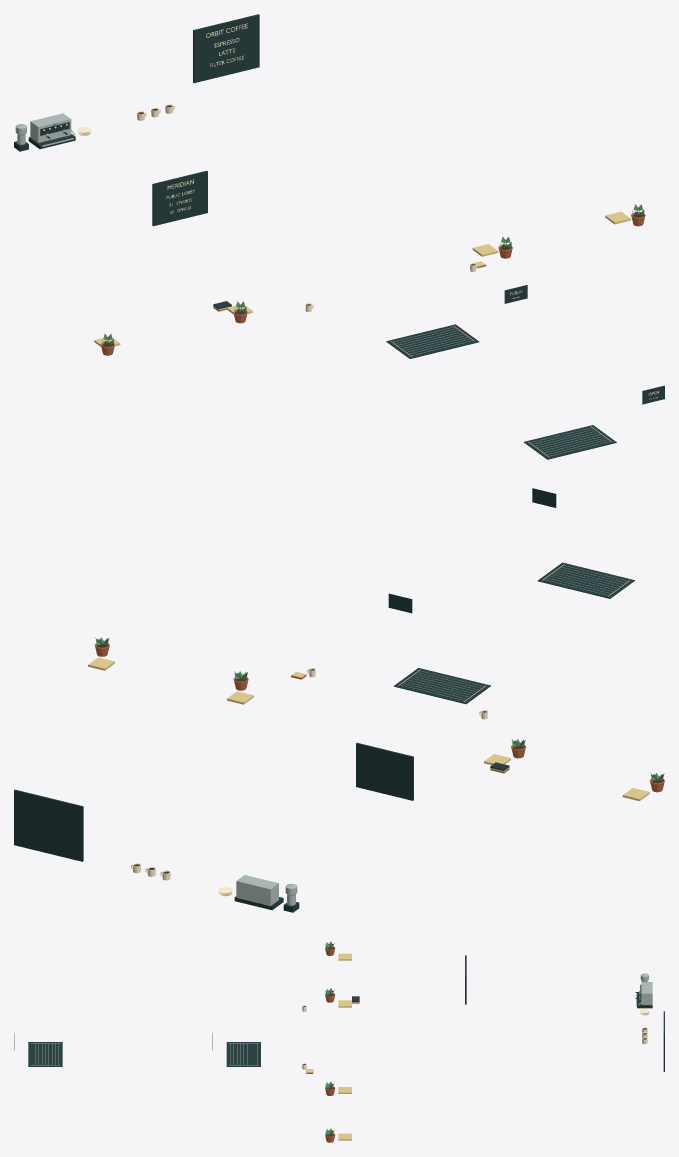
The model's file is room-dressing.glb.
3 views of the same model, one above another, from view 1: azimuth 30°, elevation 25°; view 2: azimuth 150°, elevation 25°; view 3: azimuth 270°, elevation 25° (orthographic). The views are drawn at different scales.
Visible parts, largest first — view 1: cafe_room_dressing, lobby_room_dressing; view 2: cafe_room_dressing, lobby_room_dressing; view 3: cafe_room_dressing, lobby_room_dressing.
Part boxes in pixels (x1,y1,x2,y2): cafe_room_dressing: (14,14,664,459); lobby_room_dressing: (152,170,527,358); cafe_room_dressing: (14,488,664,912); lobby_room_dressing: (227,593,526,800); cafe_room_dressing: (14,941,664,1142); lobby_room_dressing: (212,955,466,1095).
Bounding box in the file's own units: 21.13 × 3.18 × 30.4.
